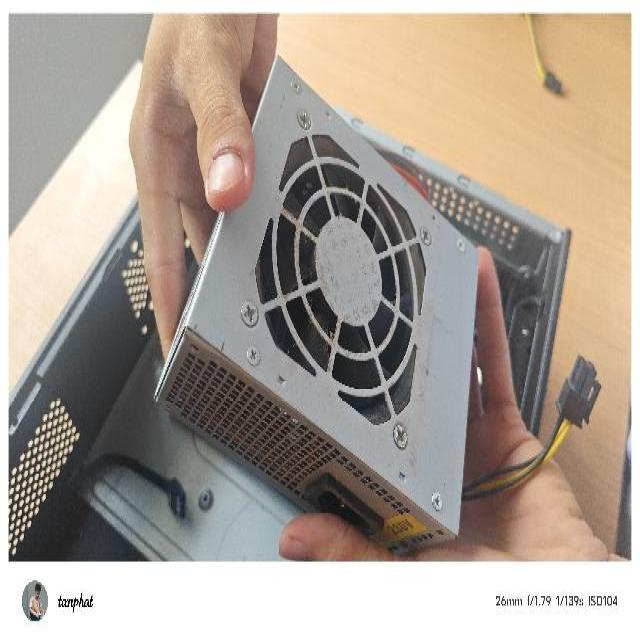PSU: (150, 44, 480, 557)
